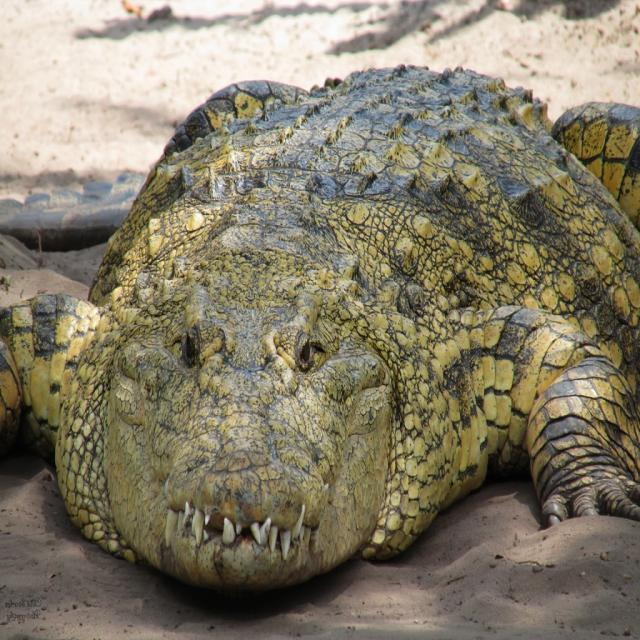crocodile: (0, 44, 639, 634)
